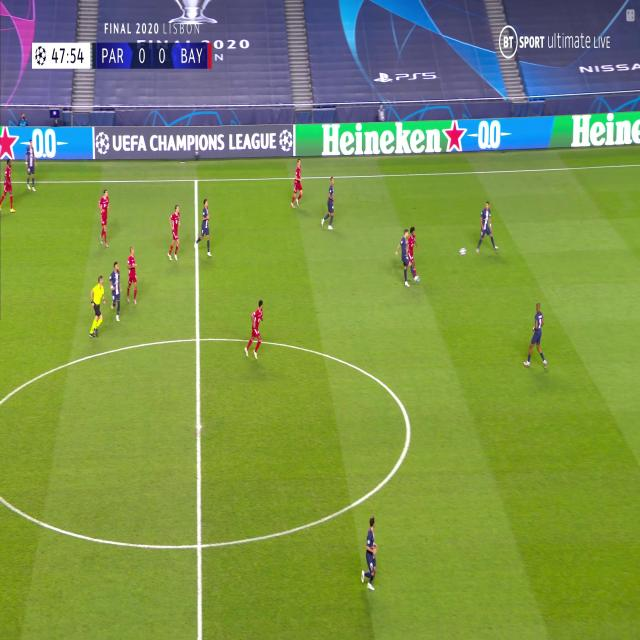ball: (460, 246, 466, 256)
player: (522, 301, 548, 371), (361, 516, 380, 592), (245, 298, 266, 361), (475, 200, 499, 253), (396, 227, 416, 289), (195, 198, 214, 259), (88, 274, 105, 339), (166, 204, 182, 263), (125, 245, 139, 309), (321, 176, 337, 231), (0, 157, 15, 214), (108, 260, 122, 321), (406, 224, 420, 284), (97, 189, 111, 249), (290, 159, 304, 209), (24, 142, 36, 194)
